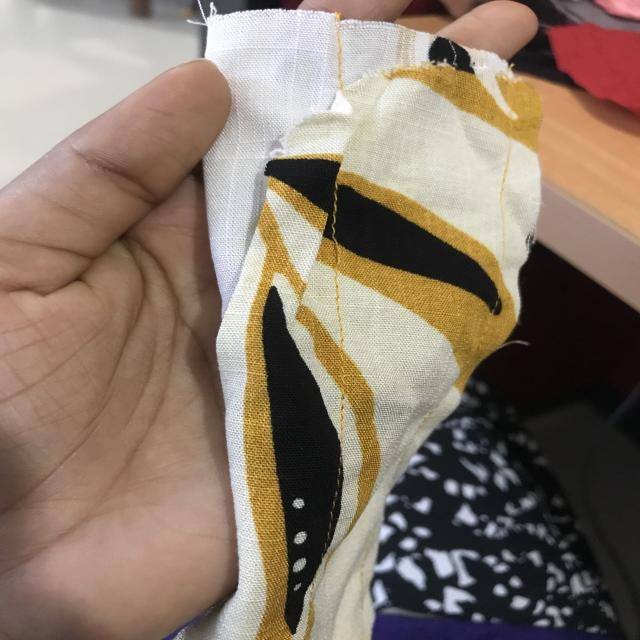skip: (319, 228, 354, 278)
